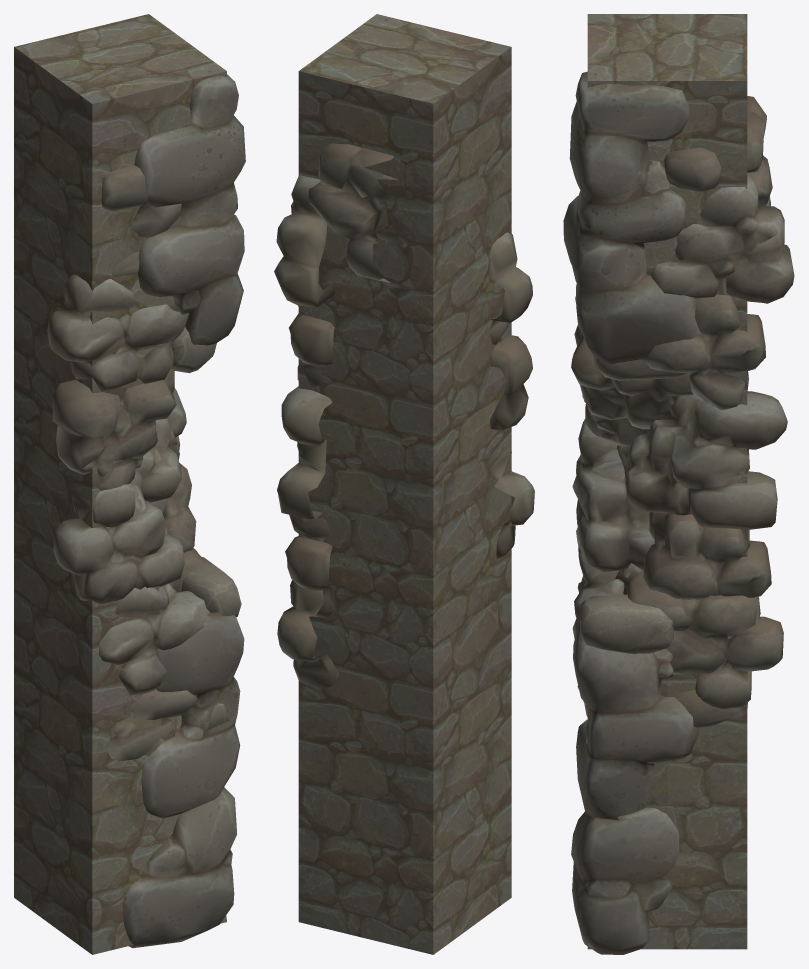
File: SM_FW01_Ruins_Wall_corner_Mid_02.fbx
3 renders of one model, left to right at view 1: azimuth 30°, elevation 25°; view 2: azimuth 150°, elevation 25°; view 3: azimuth 270°, elevation 25°, orthographic. The views are drawn at different scales.
Visible parts, largest first — view 1: SM_FW01_Ruins_Wall_corner_Mid_02_LOD0, SM_FW01_Ruins_Wall_corner_Mid_02; view 2: SM_FW01_Ruins_Wall_corner_Mid_02, SM_FW01_Ruins_Wall_corner_Mid_02_LOD0; view 3: SM_FW01_Ruins_Wall_corner_Mid_02_LOD0, SM_FW01_Ruins_Wall_corner_Mid_02.
Part boxes in pixels (x1,y1,x2,y2): SM_FW01_Ruins_Wall_corner_Mid_02_LOD0: (47,70,245,948); SM_FW01_Ruins_Wall_corner_Mid_02: (14,14,226,954); SM_FW01_Ruins_Wall_corner_Mid_02: (298,14,511,954); SM_FW01_Ruins_Wall_corner_Mid_02_LOD0: (274,19,534,689); SM_FW01_Ruins_Wall_corner_Mid_02_LOD0: (563,71,794,954); SM_FW01_Ruins_Wall_corner_Mid_02: (587,14,747,949).
Size of what is drawn, in the model's own units: 1.37 by 6.1 by 1.45.
